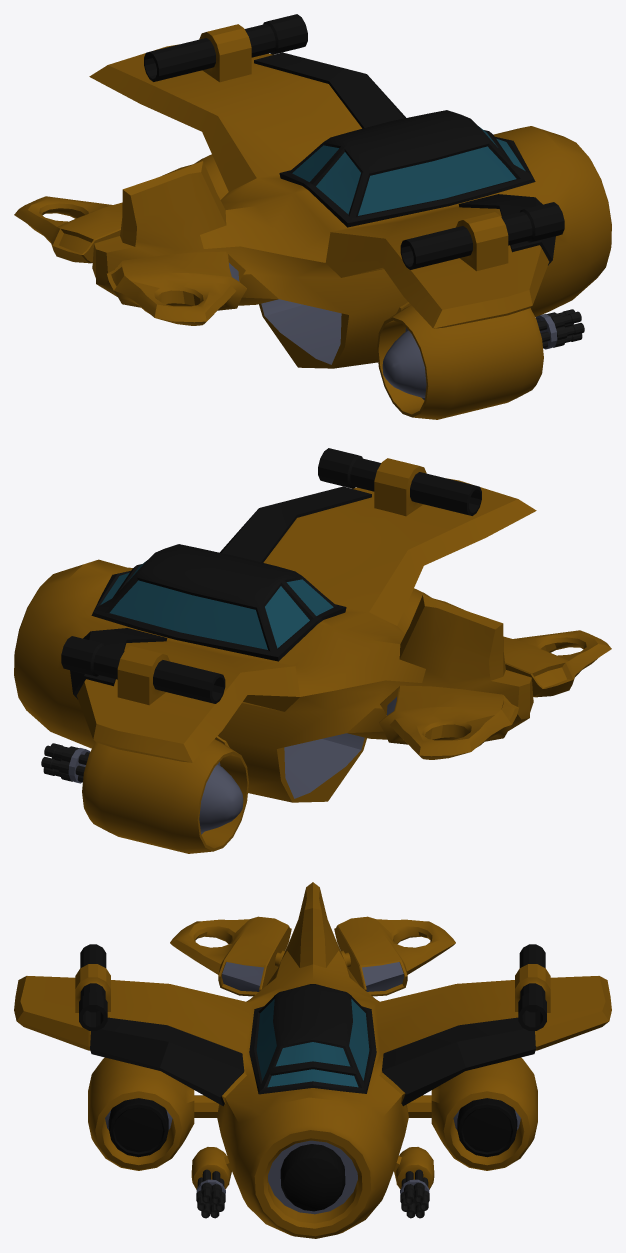
File: SK_GunShip.FBX
3 renders of one model, top to bottom at view 1: azimuth 30°, elevation 25°; view 2: azimuth 150°, elevation 25°; view 3: azimuth 270°, elevation 25°, orthographic. The views are drawn at different scales.
Parts seen in each view (by area): view 1: SK_GunShip; view 2: SK_GunShip; view 3: SK_GunShip.
Boxes of the visible parts, x1,y1,x2,y2 form: SK_GunShip: [14, 14, 611, 419]; SK_GunShip: [14, 448, 611, 853]; SK_GunShip: [14, 882, 611, 1238].
Size of what is drawn, in the model's own units: 565 by 676 by 248.
